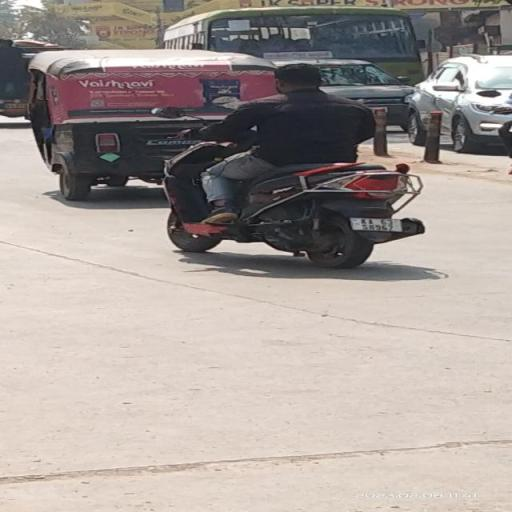bike: (152, 63, 428, 268)
numberplate: (352, 218, 402, 232)
withouthelmet: (274, 64, 320, 92)
